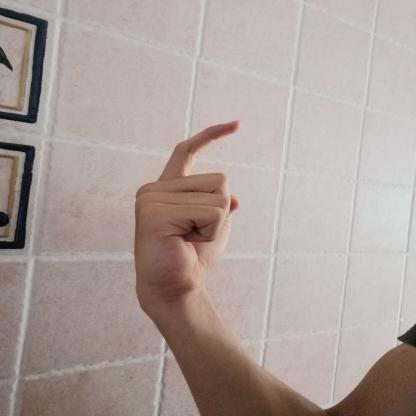RAA: (127, 107, 253, 310)
